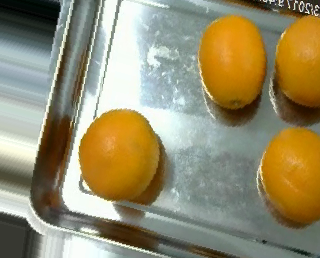Orange: (78, 106, 159, 200), (197, 14, 266, 108), (260, 127, 320, 224)
